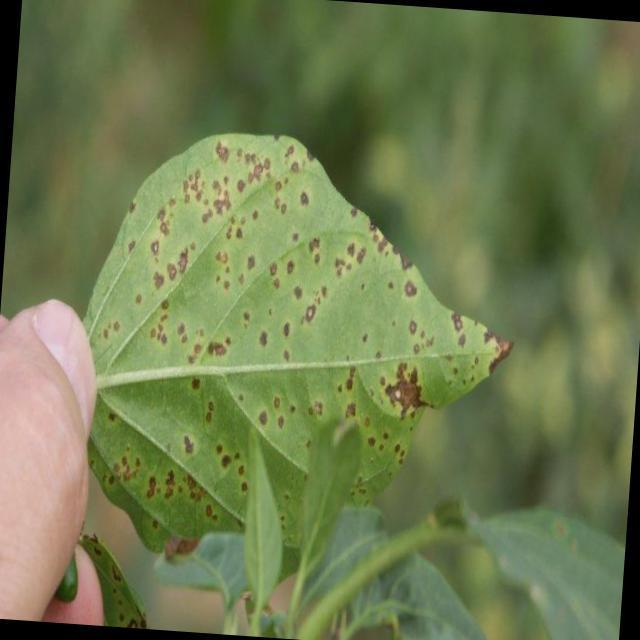Bacterial Spot: (94, 138, 502, 536)
